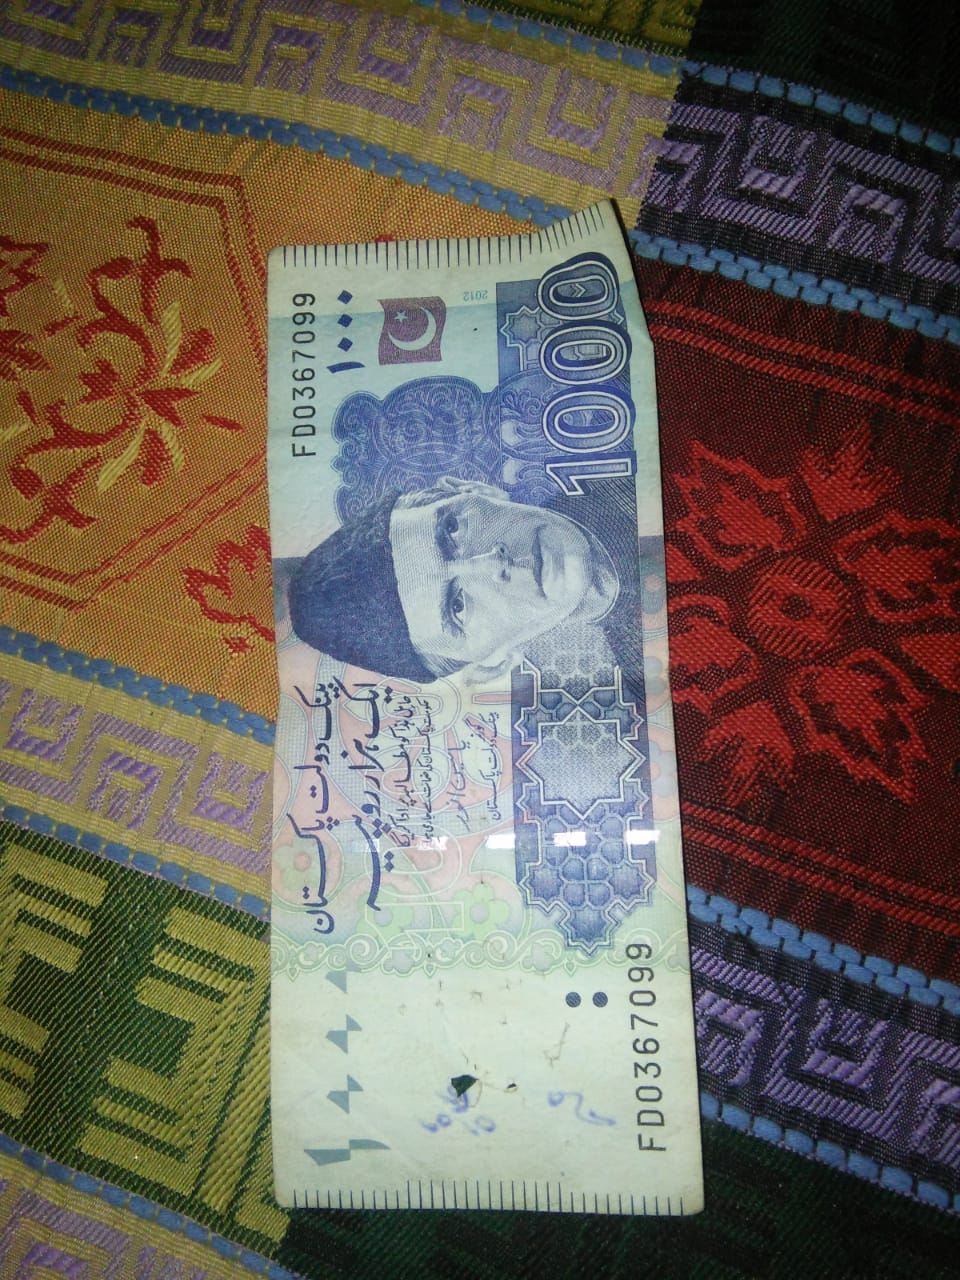1000 rupee: (249, 210, 725, 1220)
